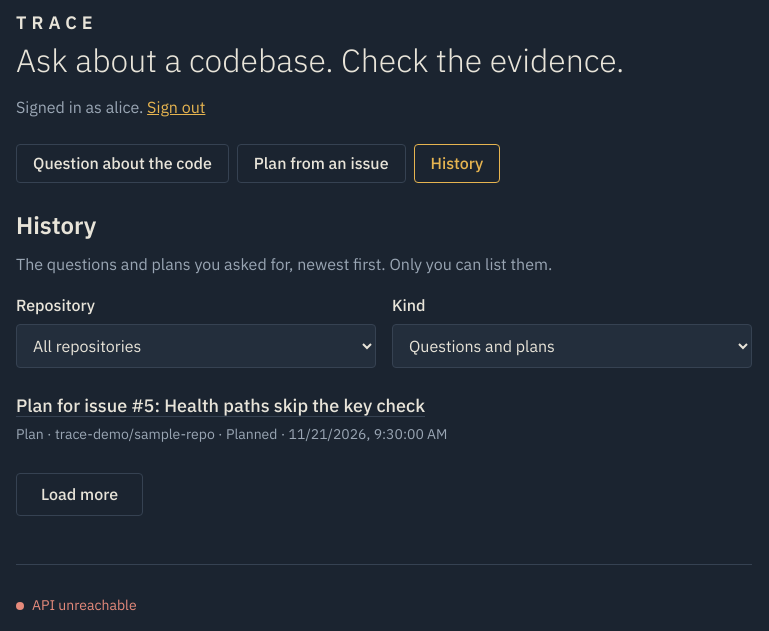
Scenario: the history list › loads more with the cursor of the page before, and stops offering when there is none
This screenshot has width=769, height=631.
Click the button "Load more" at (80, 495), box left=16, top=473, right=143, bottom=516
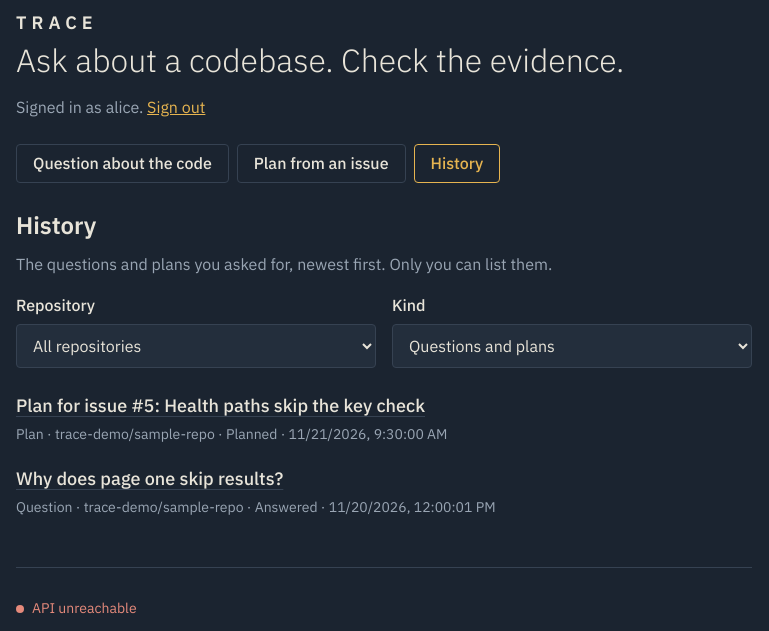
Check: the link "Why does page one skip results?" is shown, box left=16, top=467, right=283, bottom=490
Check: the number of list items is 2, box left=16, top=394, right=448, bottom=443; left=16, top=467, right=496, bottom=516
Check: the button "Load more" is gone
